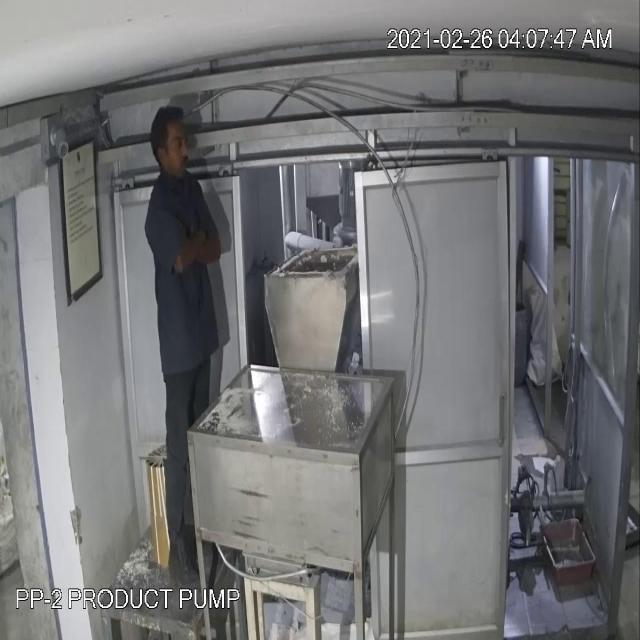no-helmet: (147, 101, 189, 155)
